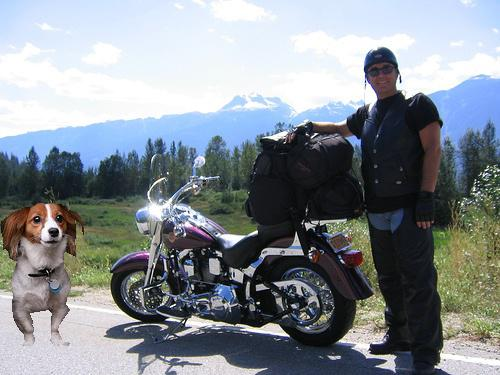tampered: (2, 204, 84, 346)
